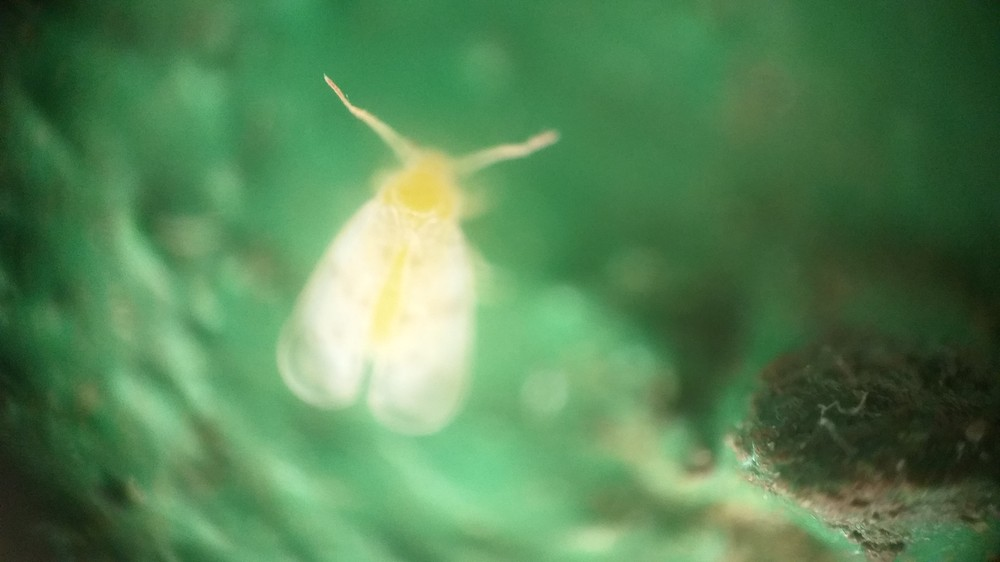Mosca Blanca: (263, 71, 573, 448)
